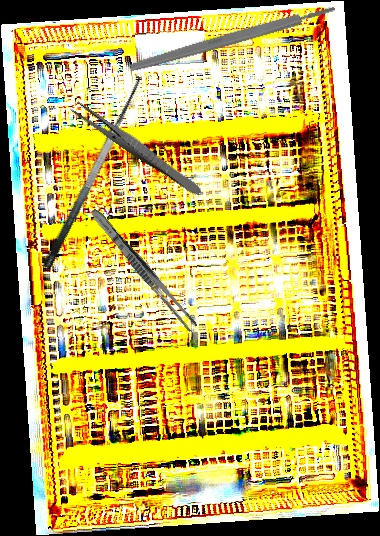Dressing Forceps: (86, 206, 201, 333), (68, 98, 206, 198)
Scalpel Handle: (129, 3, 337, 74)
Spatula Surgical: (25, 69, 151, 270)
